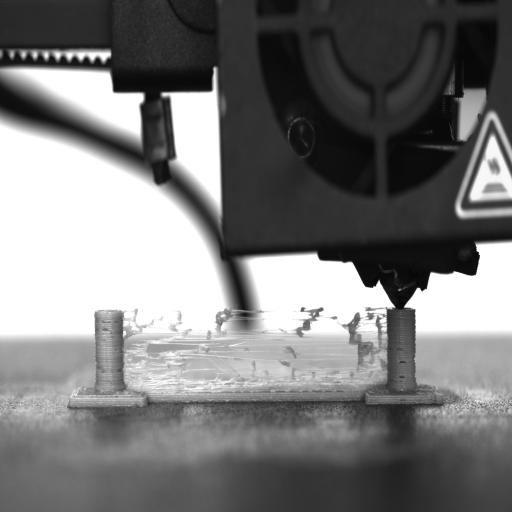spaghetti_and_stringing: (124, 305, 388, 385)
